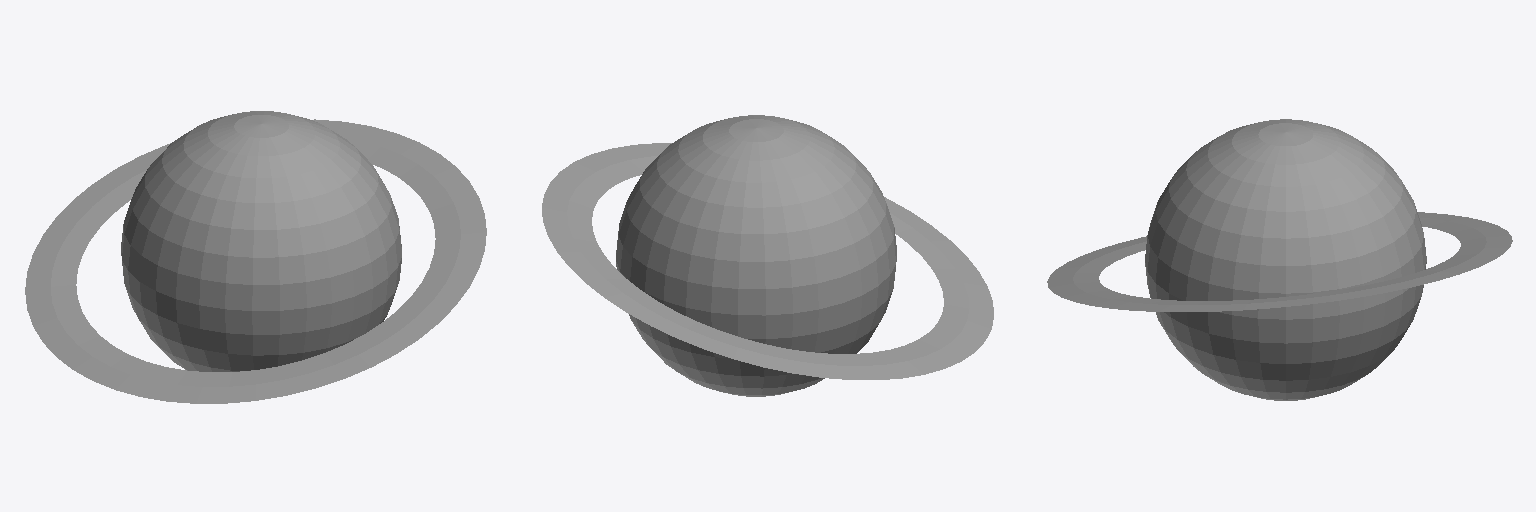
The model's file is Mage_Normal.obj.
3 renders of one model, left to right at view 1: azimuth 30°, elevation 25°; view 2: azimuth 150°, elevation 25°; view 3: azimuth 270°, elevation 25°, orthographic.
Parts seen in each view (by area): view 1: orb_Sphere, ring_Torus; view 2: orb_Sphere, ring_Torus; view 3: orb_Sphere, ring_Torus.
Part boxes in pixels (x1,y1,x2,y2): orb_Sphere: (121, 111, 401, 371); ring_Torus: (25, 119, 486, 403); orb_Sphere: (616, 115, 896, 396); ring_Torus: (542, 143, 993, 379); orb_Sphere: (1145, 119, 1426, 400); ring_Torus: (1047, 212, 1512, 311).
Size of the model in its own units: 3.22 by 2 by 3.3.